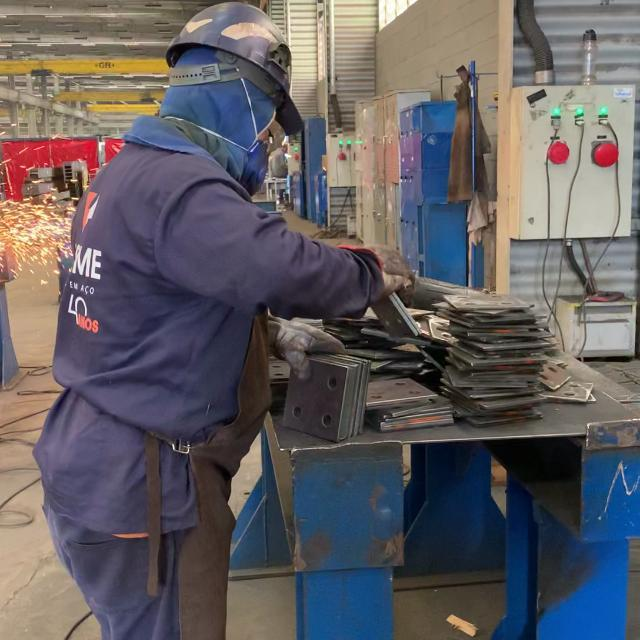face-shield: (383, 273, 413, 295)
glove: (164, 1, 310, 136)
mask: (28, 1, 417, 637)
